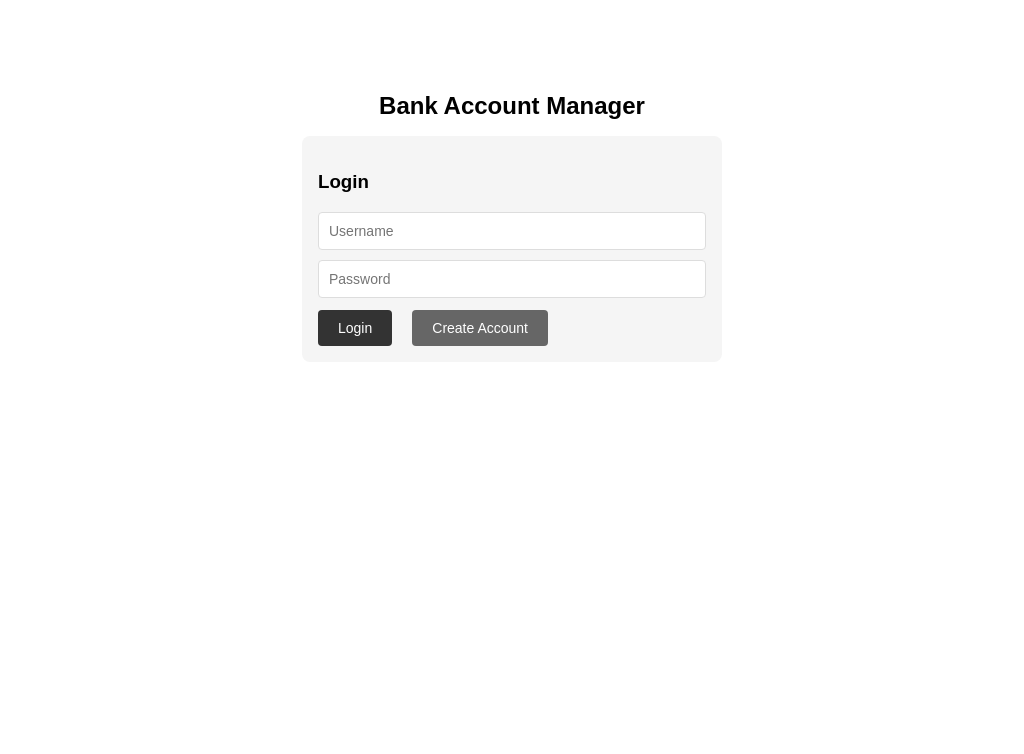
logs out and hides private account data
Type "demo1" into the field with placeholder "Username" at {"x": 512, "y": 231}, box [318,212,706,250]
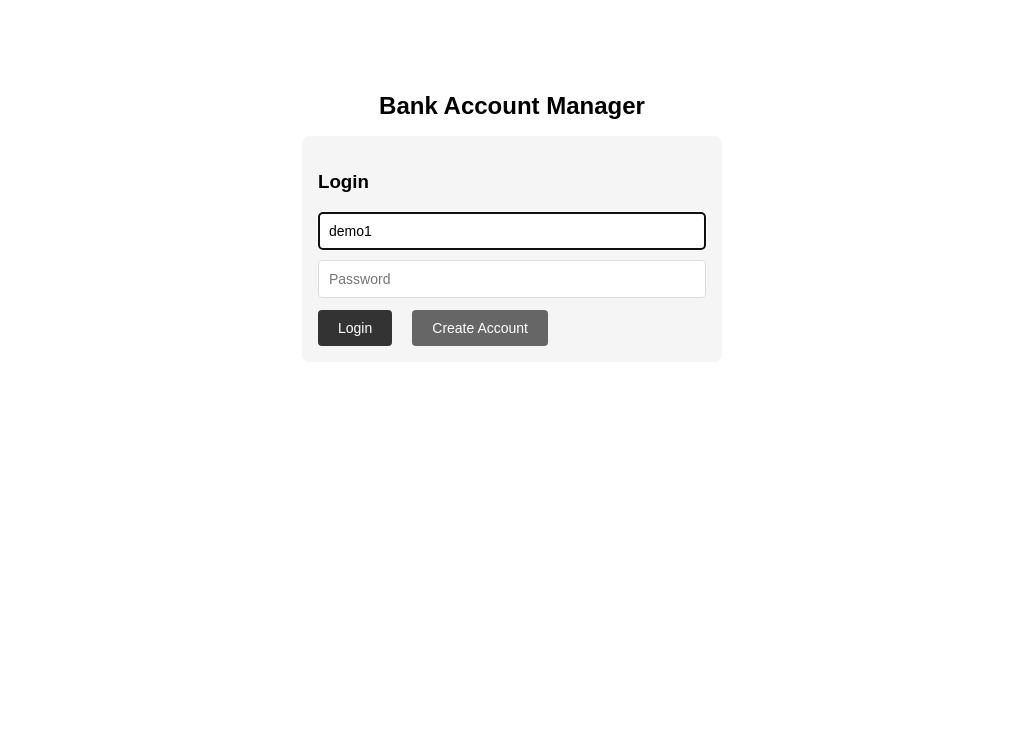
Type "password1" into the password field with placeholder "Password" at {"x": 512, "y": 279}, box [318,260,706,298]
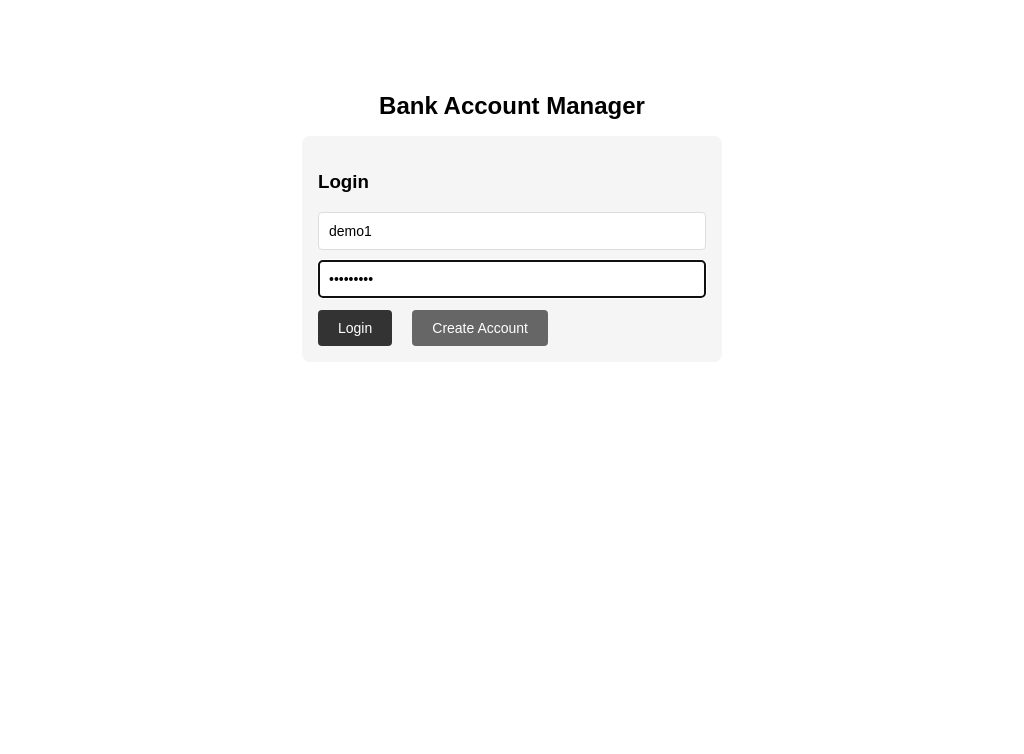
Click the button "Login" at {"x": 355, "y": 328}, box [318,310,392,346]
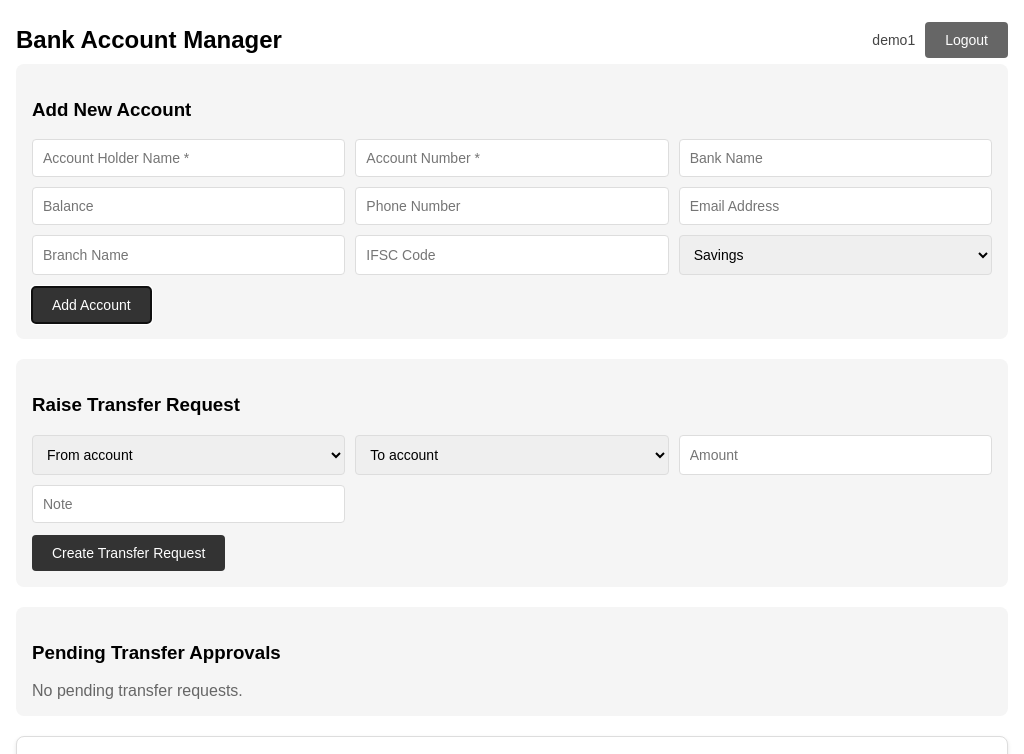
Click the button "Logout" at {"x": 967, "y": 40}, box [925,22,1008,58]
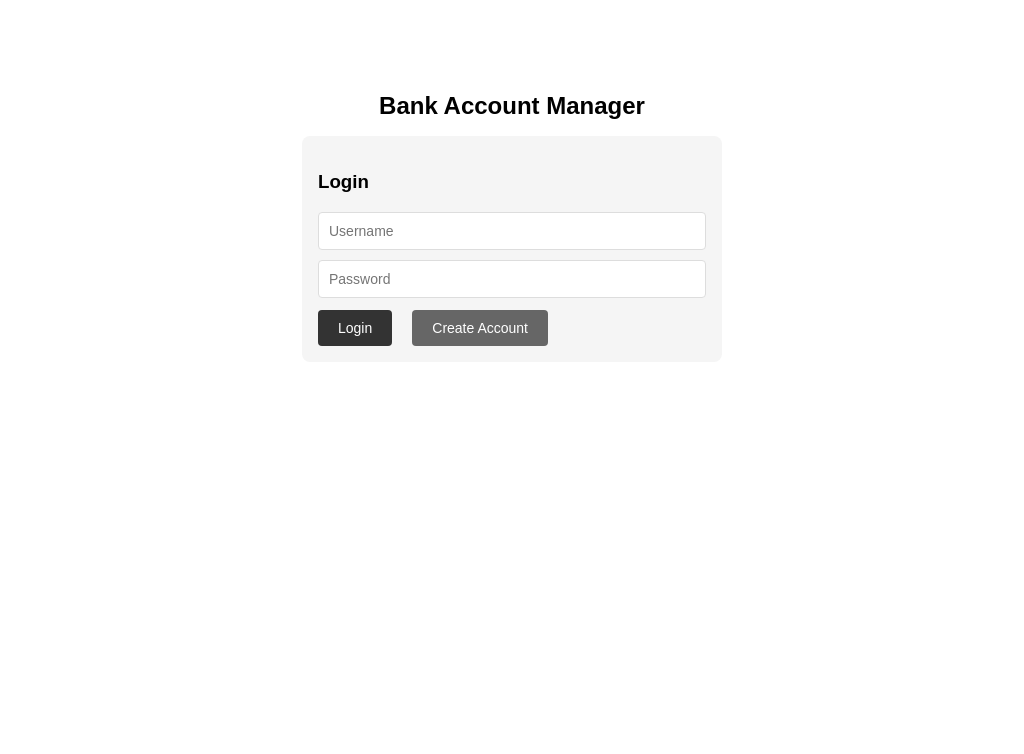
Result: the heading "Login" is shown at [318,171,369,192]
